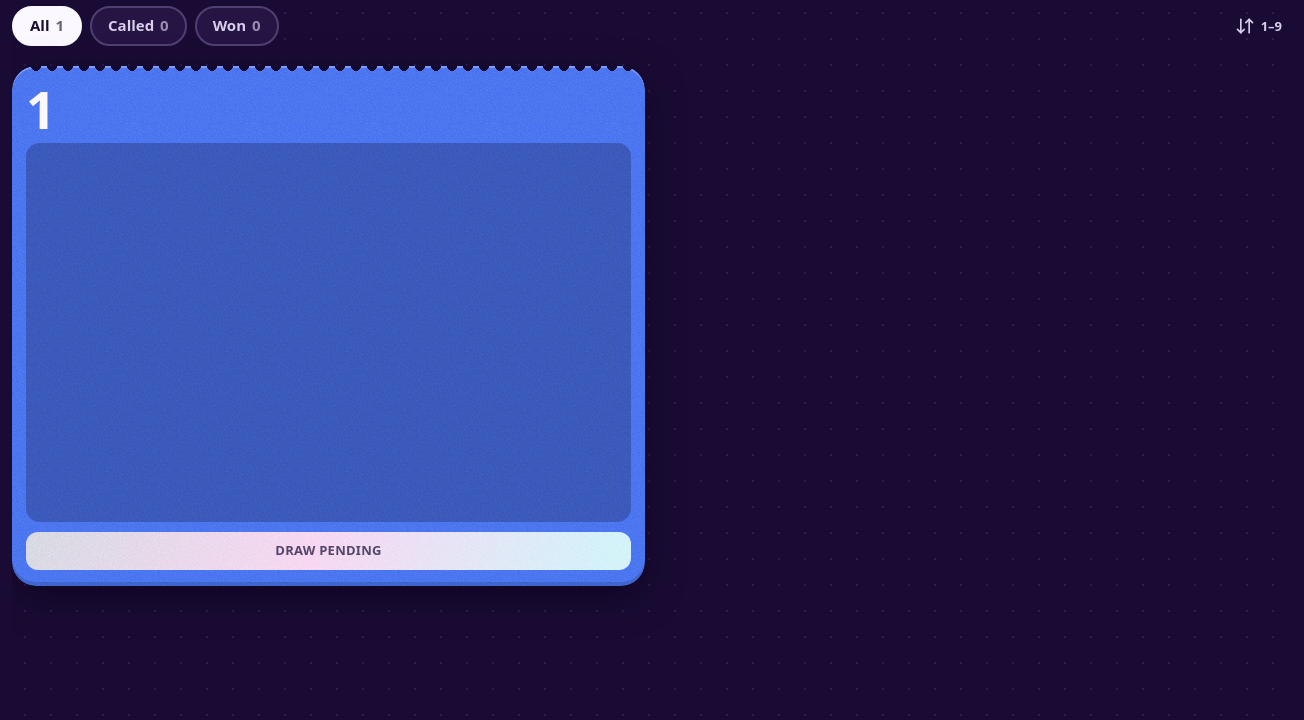
Test case: Wallet › explains an empty filter
Click the tab "Won 0" at (237, 26), box [195,6,279,46]
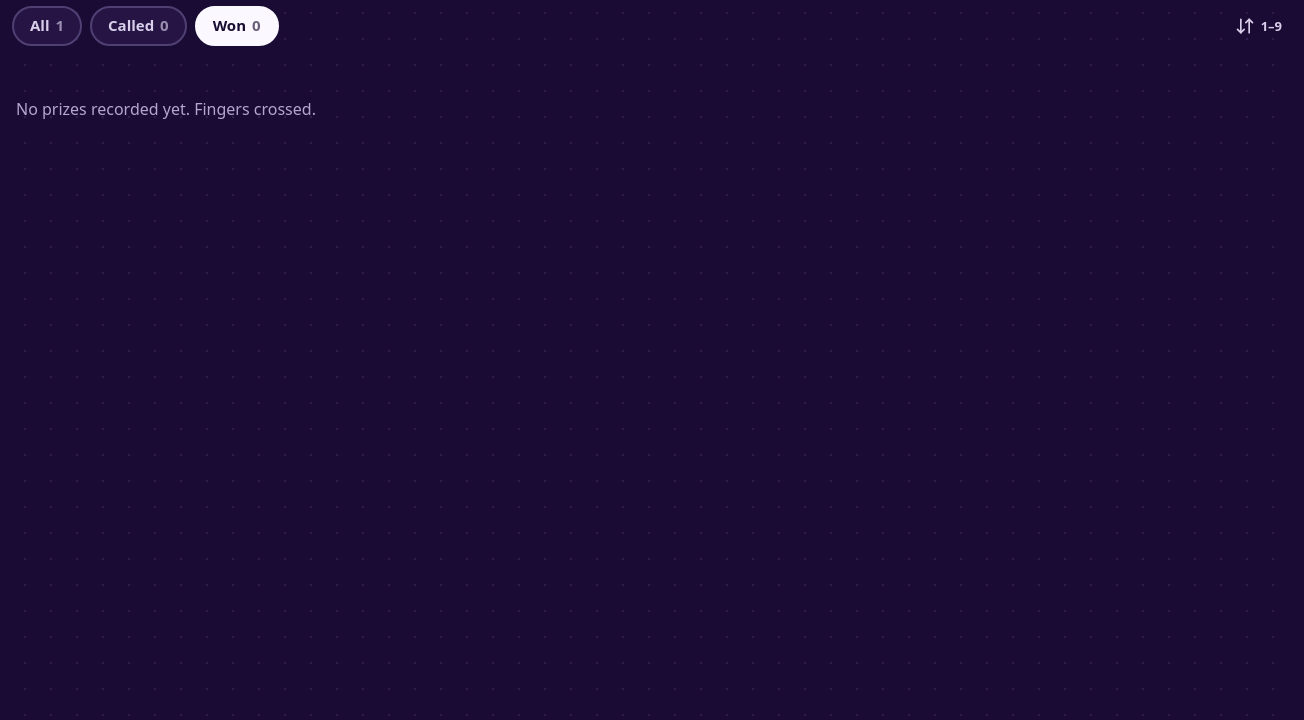
Result: the text "No prizes recorded yet. Fingers crossed." is shown at [16,98,316,120]
